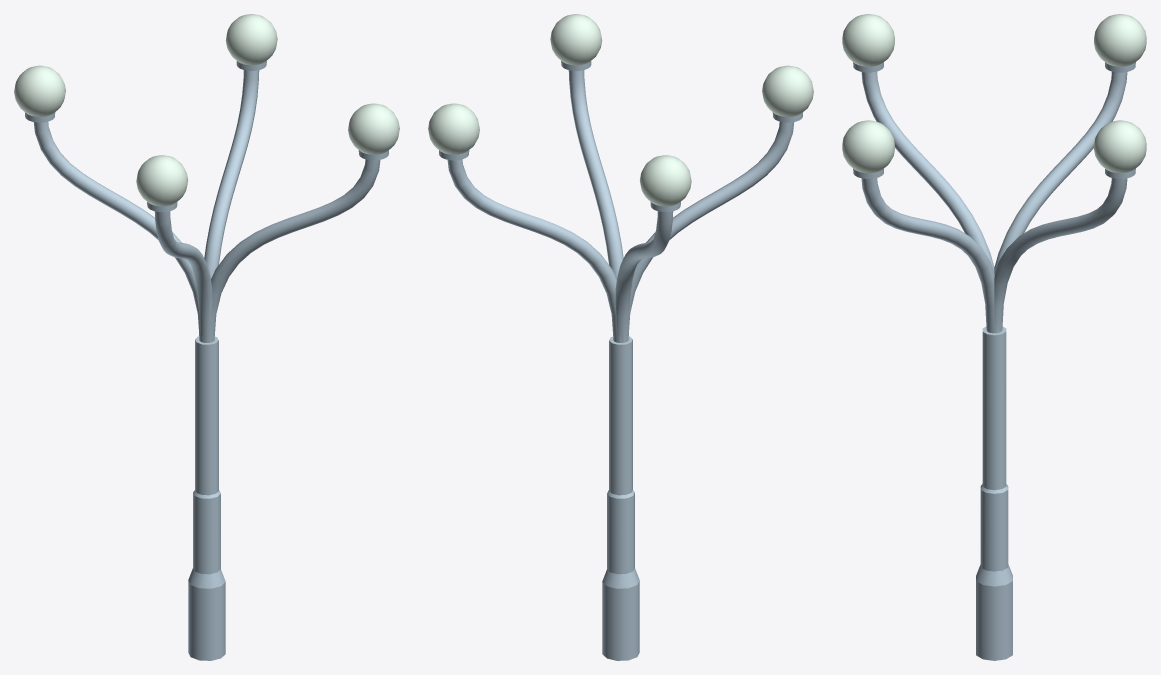
File: streetlight_06.fbx
The picture shows the model from 3 angles, left to right: view 1: azimuth 30°, elevation 25°; view 2: azimuth 150°, elevation 25°; view 3: azimuth 270°, elevation 25°; orthographic projection. The views are drawn at different scales.
Visible parts, largest first — view 1: pSphere13 (×4), streetlight_06, pCylinder40, pCylinder37, pCylinder38, pCylinder39; view 2: pSphere13 (×4), streetlight_06, pCylinder37, pCylinder40, pCylinder39, pCylinder38; view 3: pSphere13 (×4), streetlight_06, pCylinder37, pCylinder40, pCylinder38, pCylinder39.
Part boxes in pixels (box(x1,y1,x2,y2)): pSphere13 (×4): box(14, 14, 399, 211); streetlight_06: box(188, 336, 225, 660); pCylinder40: box(202, 159, 380, 342); pCylinder37: box(204, 70, 259, 278); pCylinder38: box(33, 121, 202, 342); pCylinder39: box(154, 211, 213, 342); pSphere13 (×4): box(428, 14, 813, 211); streetlight_06: box(602, 336, 639, 660); pCylinder37: box(447, 159, 620, 342); pCylinder40: box(568, 70, 623, 278); pCylinder39: box(620, 121, 794, 342); pCylinder38: box(614, 211, 673, 342); pSphere13 (×4): box(842, 14, 1146, 178); streetlight_06: box(976, 327, 1012, 660); pCylinder37: box(987, 178, 1127, 333); pCylinder40: box(861, 178, 998, 333); pCylinder38: box(994, 71, 1127, 332); pCylinder39: box(861, 71, 994, 330).
Size of the model in its own units: 3.38 by 7.14 by 3.38.
